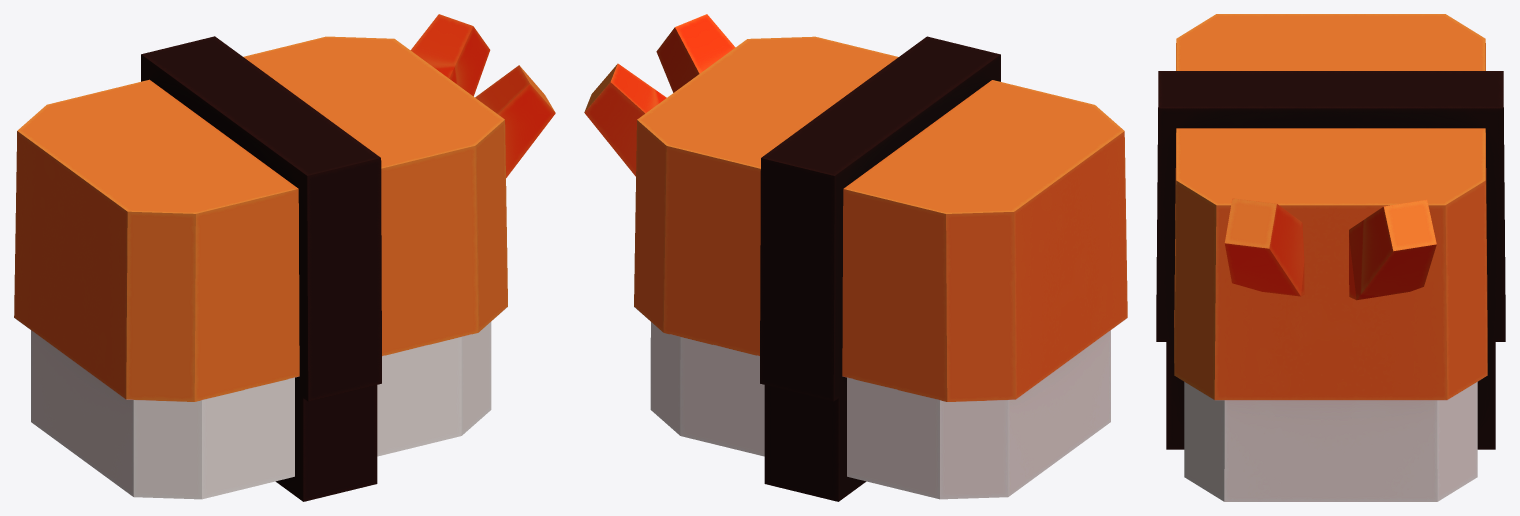
File: EbiRoll.fbx
3 renders of one model, left to right at view 1: azimuth 30°, elevation 25°; view 2: azimuth 150°, elevation 25°; view 3: azimuth 270°, elevation 25°, orthographic. The views are drawn at different scales.
Visible parts, largest first — view 1: EbiRoll; view 2: EbiRoll; view 3: EbiRoll.
Boxes of the visible parts, bbox=[...] form: EbiRoll: bbox=[14, 14, 555, 501]; EbiRoll: bbox=[584, 14, 1127, 501]; EbiRoll: bbox=[1156, 14, 1505, 501].
Size of the model in its own units: 158 by 102 by 111.
1 material, 1 textured.
